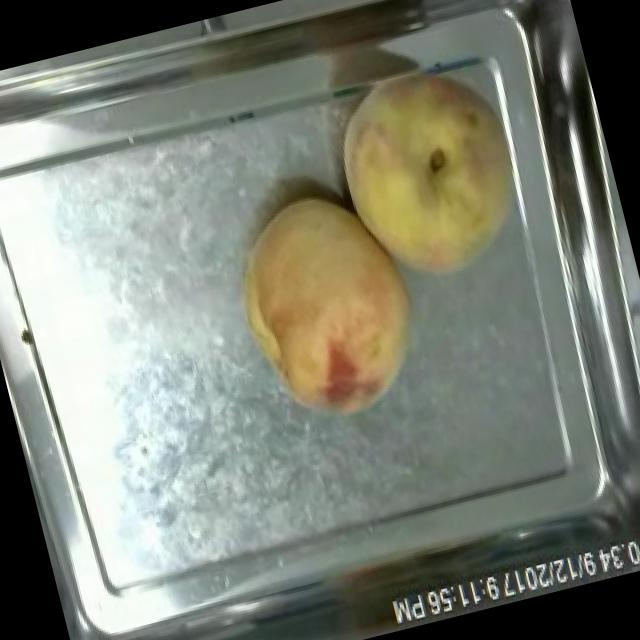Fruit: (209, 170, 442, 440), (315, 48, 552, 304)
